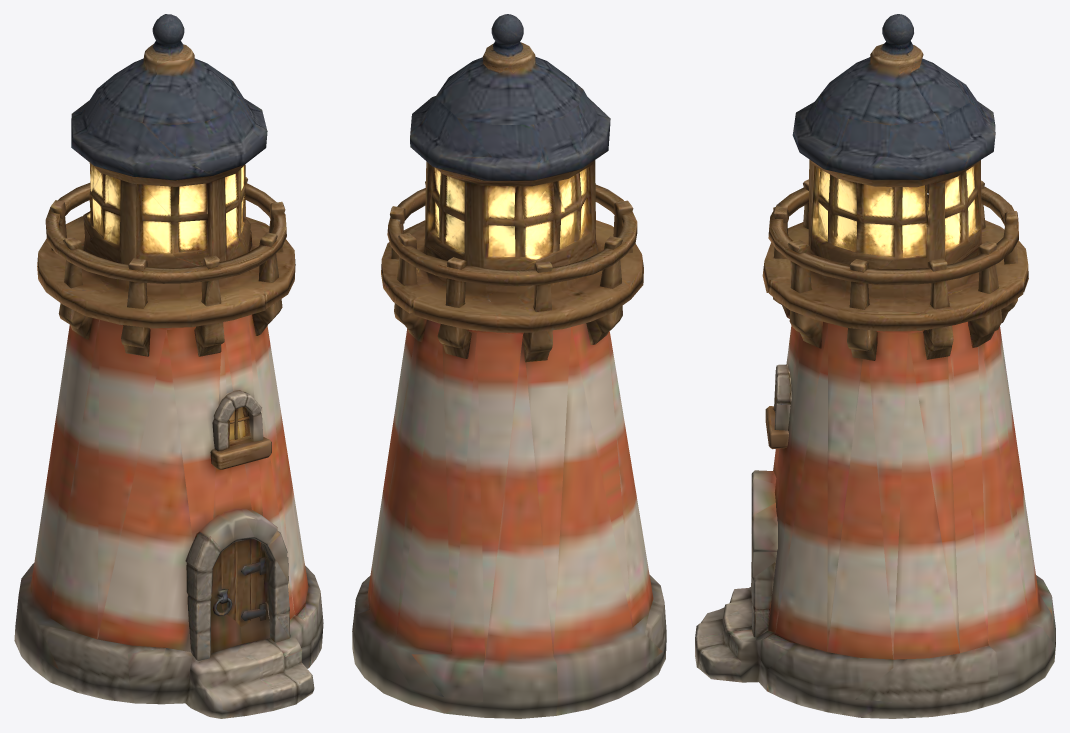
File: lighthouse.glb
3 views of the same model, side by side, from view 1: azimuth 30°, elevation 25°; view 2: azimuth 150°, elevation 25°; view 3: azimuth 270°, elevation 25° (orthographic). The views are drawn at different scales.
Parts seen in each view (by area): view 1: lighthouse; view 2: lighthouse; view 3: lighthouse.
Boxes of the visible parts, left/top/right/bottom form: lighthouse: left=14, top=14, right=323, bottom=718; lighthouse: left=352, top=14, right=666, bottom=718; lighthouse: left=695, top=14, right=1055, bottom=718.
Size of the model in its own units: 1.67 by 3.75 by 1.92.
2 materials, 2 textured.
